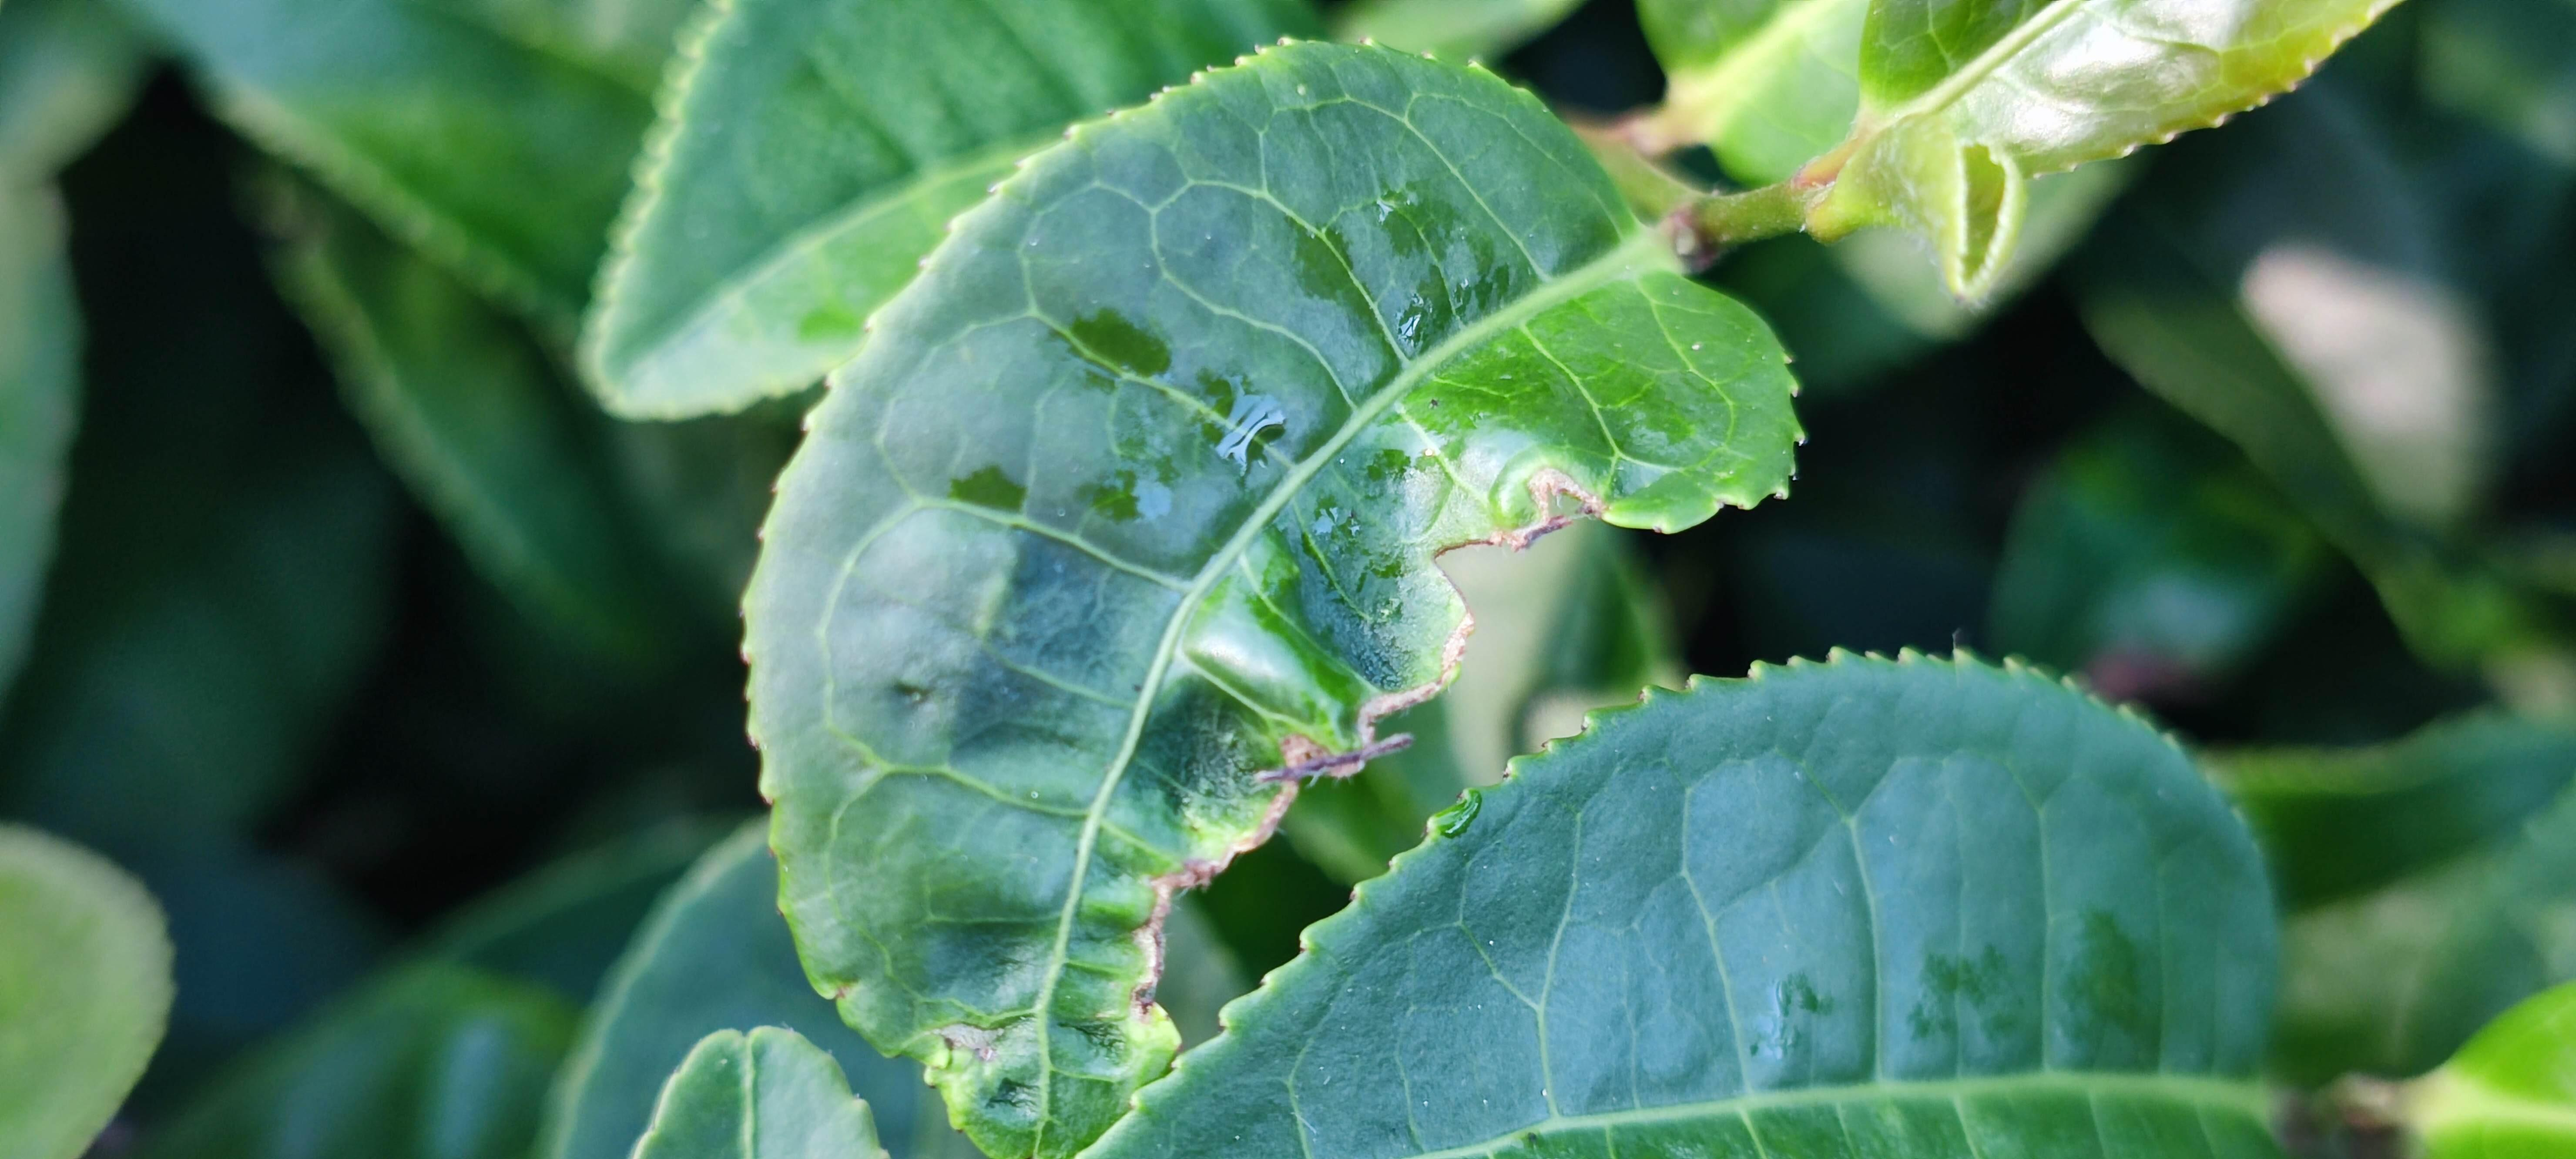chihuo_low: (734, 31, 1812, 1159)
healthy: (1050, 639, 2287, 1152), (577, 2, 1321, 424)
